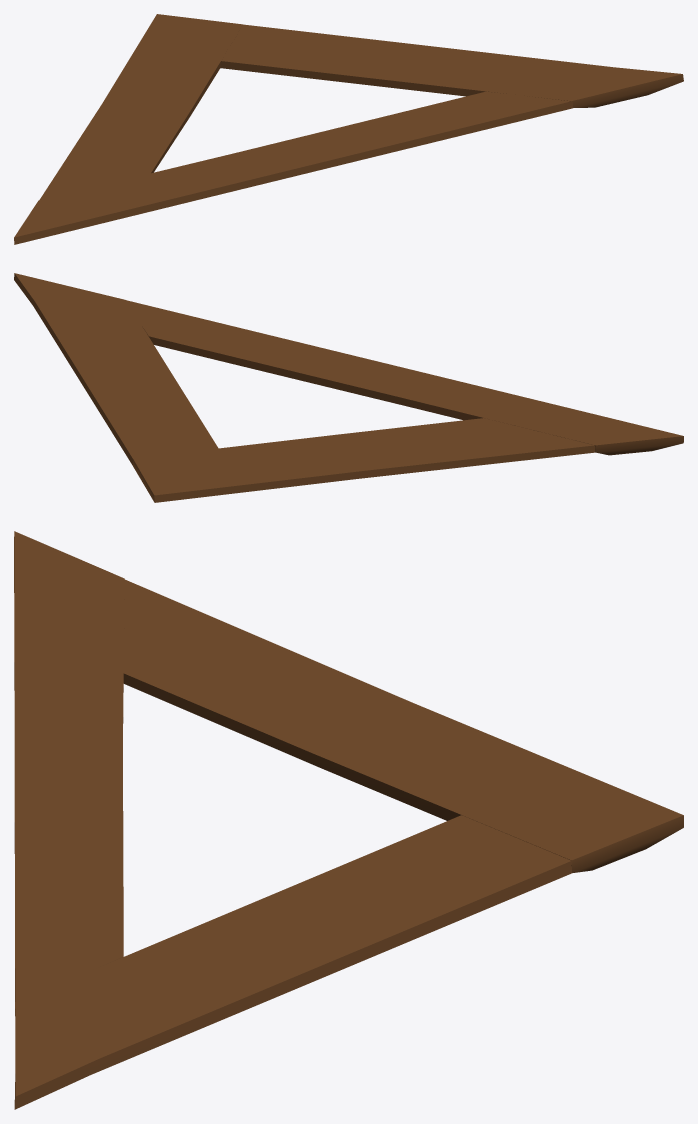
File: rt90_wood_4_birchSplitLogTriFloorSection1.glb
The picture shows the model from 3 angles, top to bottom: view 1: azimuth 30°, elevation 25°; view 2: azimuth 150°, elevation 25°; view 3: azimuth 270°, elevation 25°; orthographic projection. The views are drawn at different scales.
Parts seen in each view (by area): view 1: Outside; view 2: Outside; view 3: Outside.
Part boxes in pixels (x1,y1,x2,y2): Outside: [14, 14, 683, 244]; Outside: [14, 273, 683, 502]; Outside: [14, 531, 683, 1109].
Size of the model in its own units: 5.72 by 0.1233 by 2.86.
